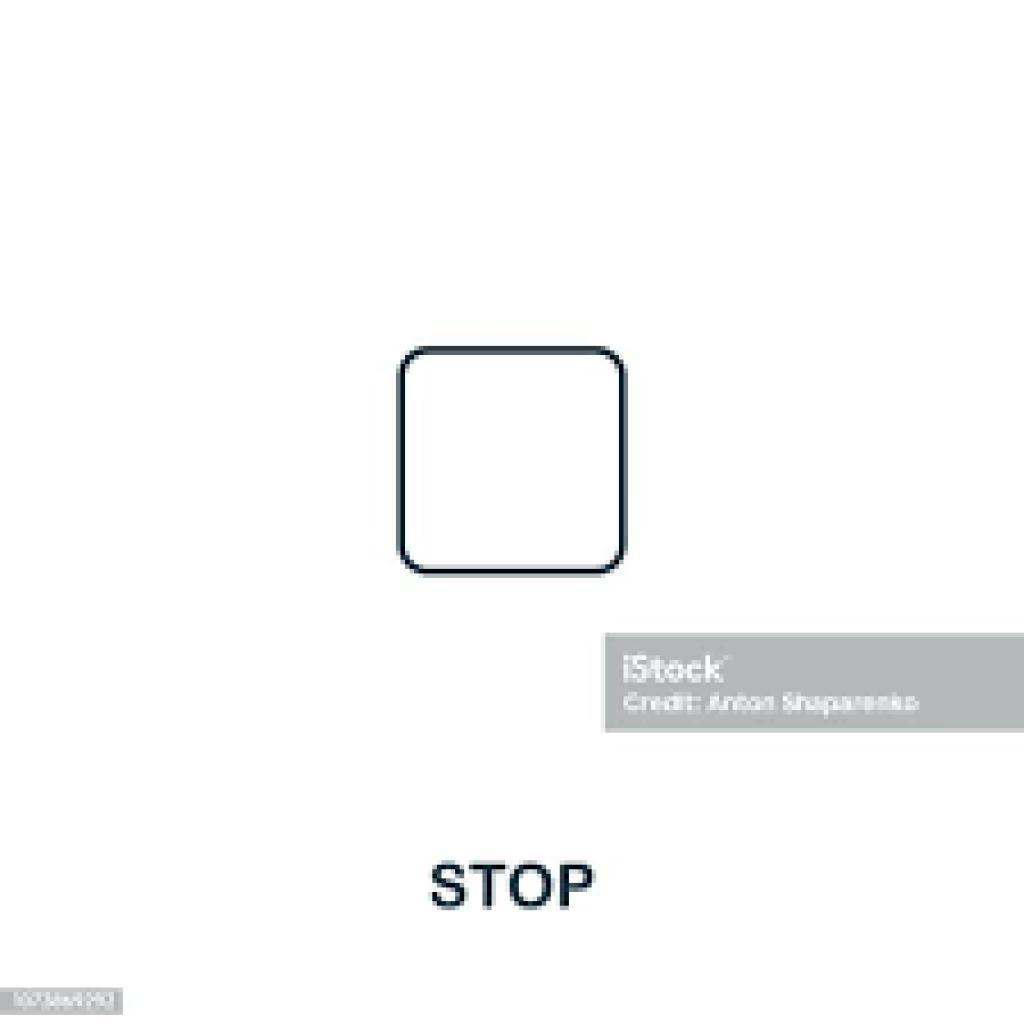checkbox: (403, 352, 622, 572)
label: (426, 854, 597, 917)
